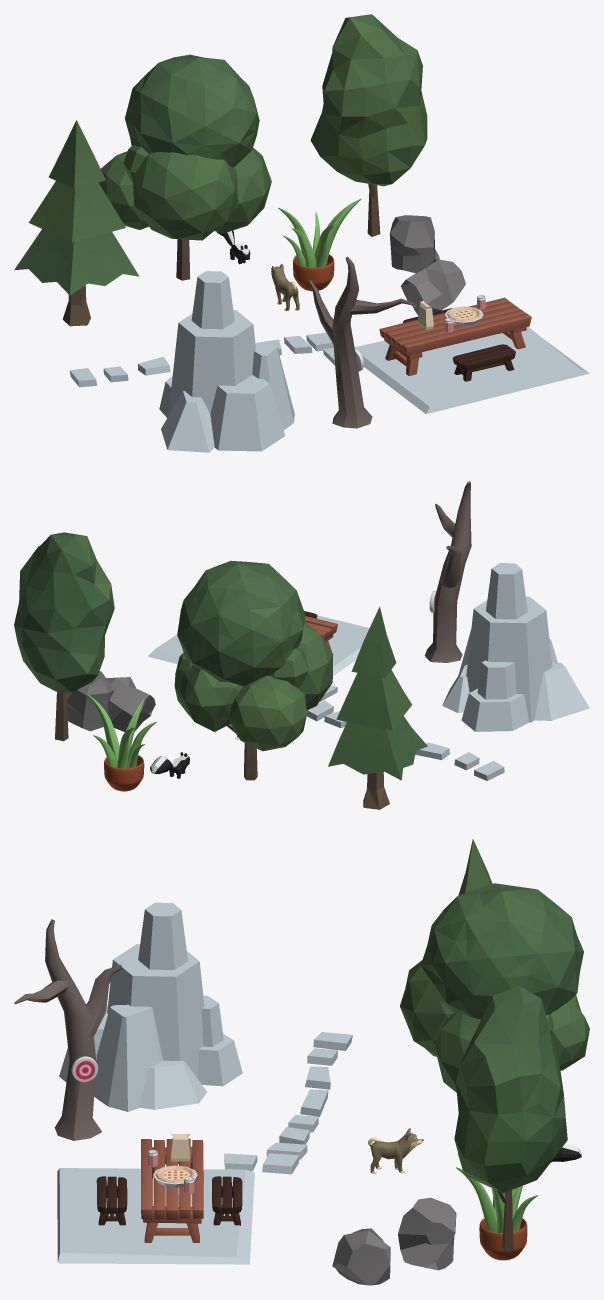
File: hobbies.glb
3 renders of one model, top to bottom at view 1: azimuth 30°, elevation 25°; view 2: azimuth 150°, elevation 25°; view 3: azimuth 270°, elevation 25°, orthographic. The views are drawn at different scales.
Parts seen in each view (by area): view 1: tree-lime, formation_stone, tree-beech, tree-spruce, Cube.011, treeD_graveyard, tableLarge, menhir_mini, menhir_mini.001, bench.001, plant.001, body (+1 smaller); view 2: tree-lime, formation_stone, tree-beech, tree-spruce, treeD_graveyard, Cube.011, menhir_mini.001, menhir_mini, plant.001, Cube.001, NurbsPath.009, tableLarge; view 3: tree-lime, formation_stone, tree-beech, Cube.011, treeD_graveyard, tableLarge, menhir_mini, menhir_mini.001, bench.002, bench.001, body, plant.001 (+6 smaller).
Part boxes in pixels (x1,y1,x2,y2): tree-lime: (98,54,271,280); formation_stone: (159,271,294,452); tree-beech: (310,14,427,236); tree-spruce: (14,120,139,326); Cube.011: (354,326,589,414); treeD_graveyard: (309,256,414,428); tableLarge: (379,297,531,375); menhir_mini: (389,215,439,273); menhir_mini.001: (401,259,465,315); bench.001: (452,344,515,381); plant.001: (293,254,334,291); body: (271,264,299,310); tree-lime: (174,560,333,780); formation_stone: (442,563,589,731); tree-beech: (14,532,114,741); tree-spruce: (328,606,427,809); treeD_graveyard: (424,481,471,662); Cube.011: (148,615,388,675); menhir_mini.001: (106,677,155,732); menhir_mini: (67,671,114,731); plant.001: (104,755,144,791); Cube.001: (150,752,189,778); NurbsPath.009: (87,694,119,763); tableLarge: (304,616,337,651); tree-lime: (400,883,589,1092); formation_stone: (59,902,242,1111); tree-beech: (454,986,567,1251); Cube.011: (57,1168,254,1264); treeD_graveyard: (14,919,122,1140); tableLarge: (141,1138,203,1242); menhir_mini: (398,1197,456,1270); menhir_mini.001: (332,1228,390,1285); bench.002: (212,1176,242,1225); bench.001: (96,1176,127,1225); body: (368,1128,422,1173); plant.001: (479,1218,527,1260).
Bounding box in the file's own units: 4.77 × 2.81 × 4.89.
34 materials, 4 textured.
